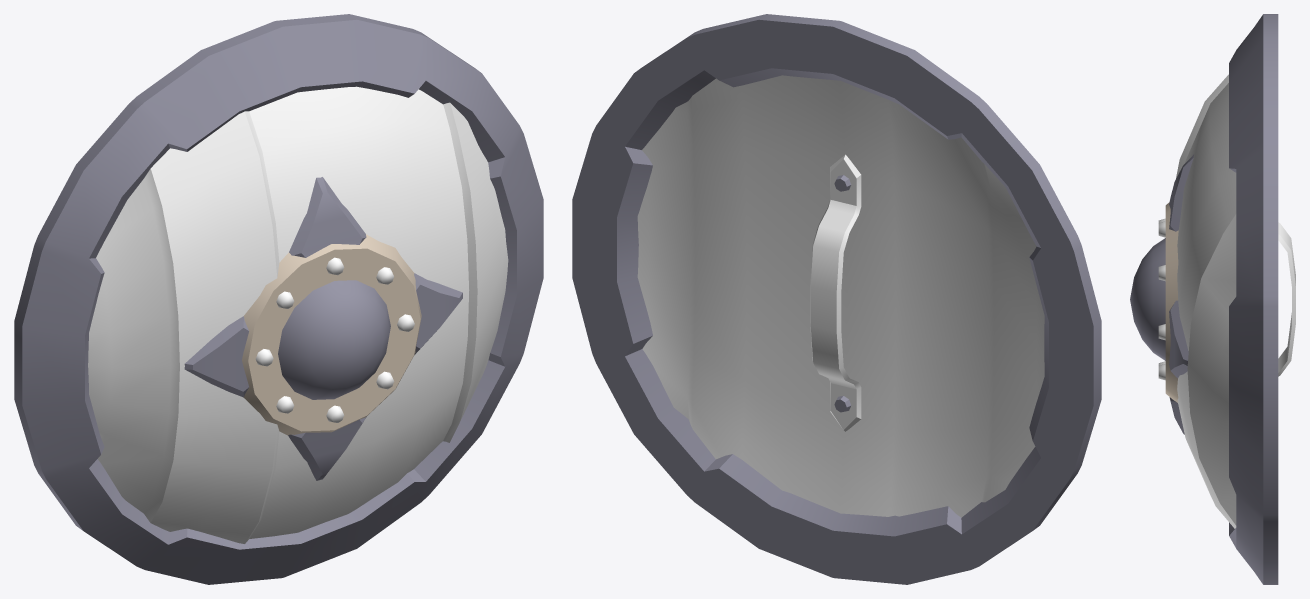
File: extra_shield_display.glb
The picture shows the model from 3 angles, left to right: view 1: azimuth 30°, elevation 25°; view 2: azimuth 150°, elevation 25°; view 3: azimuth 270°, elevation 25°; orthographic projection. The views are drawn at different scales.
Parts seen in each view (by area): view 1: Cube193_1, Cube193; view 2: Cube193, Cube193_1, Cube193_2; view 3: Cube193_1, Cube193, Cube193_2.
Boxes of the visible parts, <box> form: Cube193_1: <box>14,14,543,584</box>; Cube193: <box>88,86,508,543</box>; Cube193: <box>637,75,1044,517</box>; Cube193_1: <box>572,14,1101,584</box>; Cube193_2: <box>810,154,861,431</box>; Cube193_1: <box>1130,14,1278,584</box>; Cube193: <box>1176,74,1236,528</box>; Cube193_2: <box>1278,222,1295,376</box>.
Bounding box in the file's own units: 0.676 × 0.683 × 0.1967.
